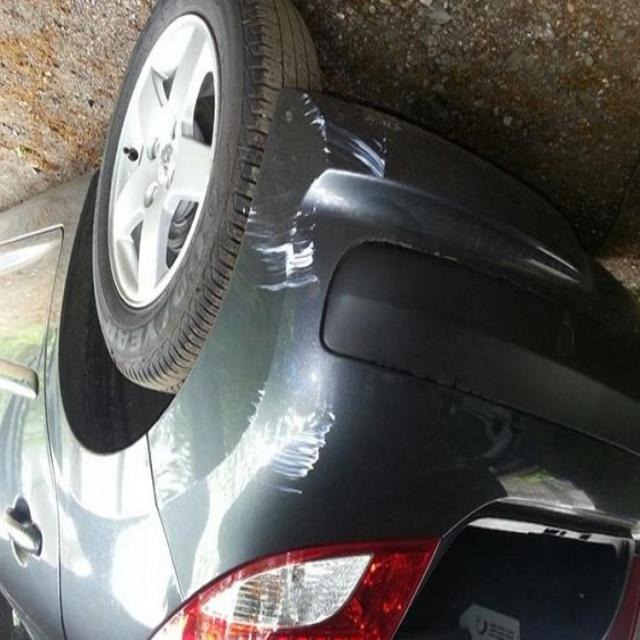scratch: (219, 100, 415, 316), (230, 382, 348, 530)
